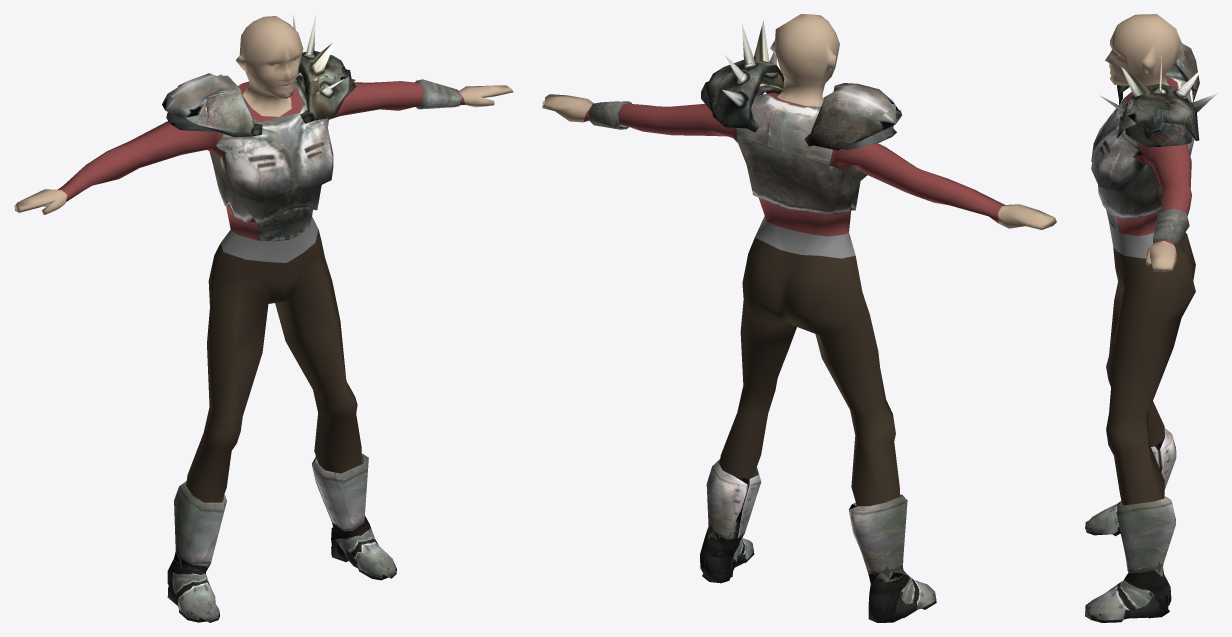
The model's file is Karpov_MA_Female.obj.
The picture shows the model from 3 angles, left to right: view 1: azimuth 30°, elevation 25°; view 2: azimuth 150°, elevation 25°; view 3: azimuth 270°, elevation 25°; orthographic projection. The views are drawn at different scales.
Visible parts, largest first — view 1: Body, Boots, Shoulders, Bracer; view 2: Body, Boots, Shoulders, Bracer; view 3: Body, Boots, Shoulders, Bracer.
Part boxes in pixels (<box>): Body: <box>14,16,513,614</box>; Boots: <box>167,453,396,622</box>; Shoulders: <box>162,15,356,137</box>; Bracer: <box>415,79,462,109</box>; Body: <box>542,14,1056,619</box>; Boots: <box>700,459,936,622</box>; Shoulders: <box>701,20,901,150</box>; Bracer: <box>588,101,631,129</box>; Body: <box>1089,14,1195,618</box>; Boots: <box>1085,428,1176,622</box>; Shoulders: <box>1099,42,1217,147</box>; Bracer: <box>1153,208,1189,247</box>.
Bounding box in the file's own units: 2.26 × 2.43 × 0.5278.
